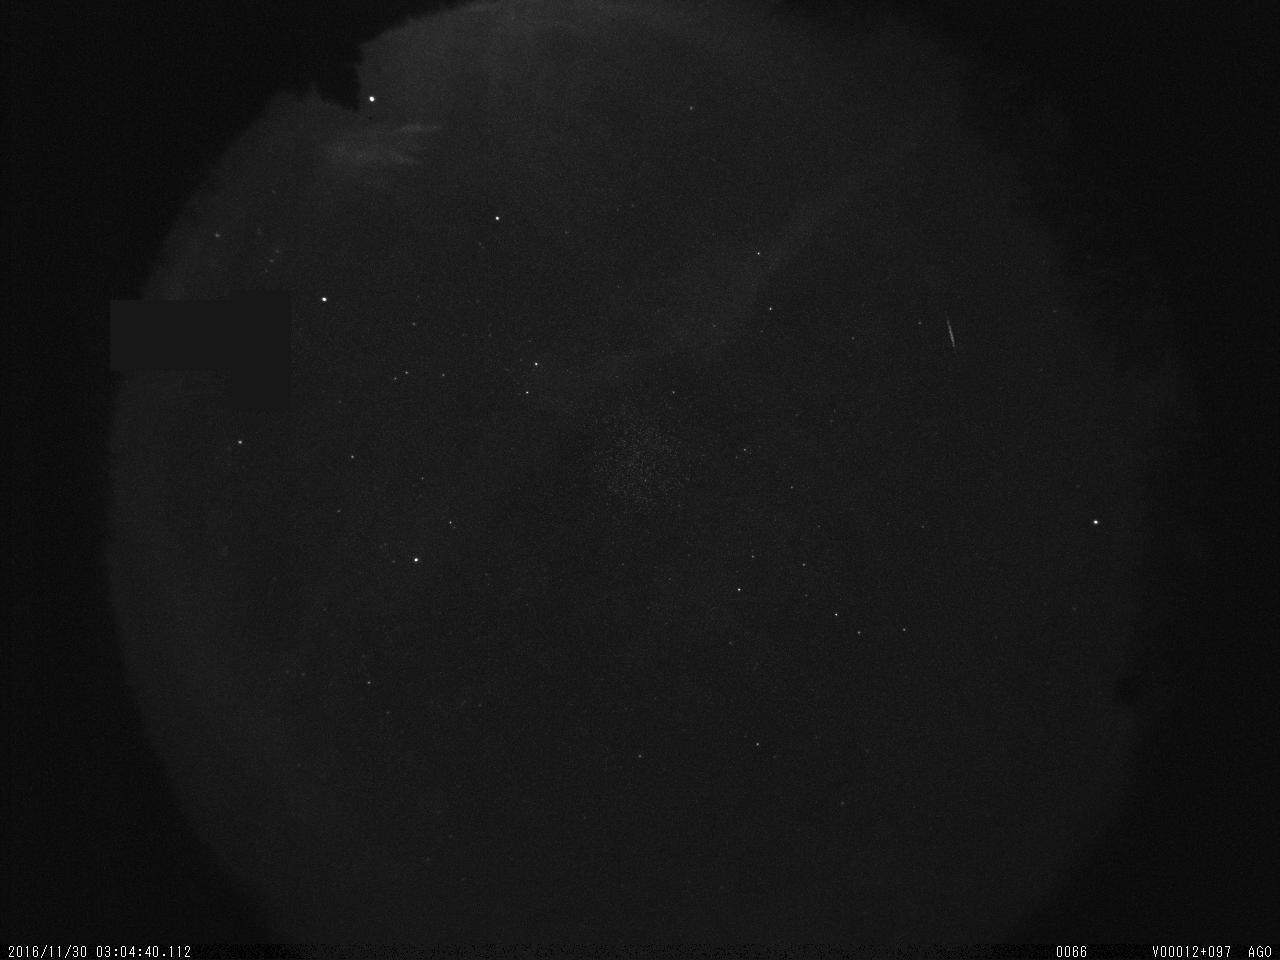Meteor: (940, 310, 961, 358)
